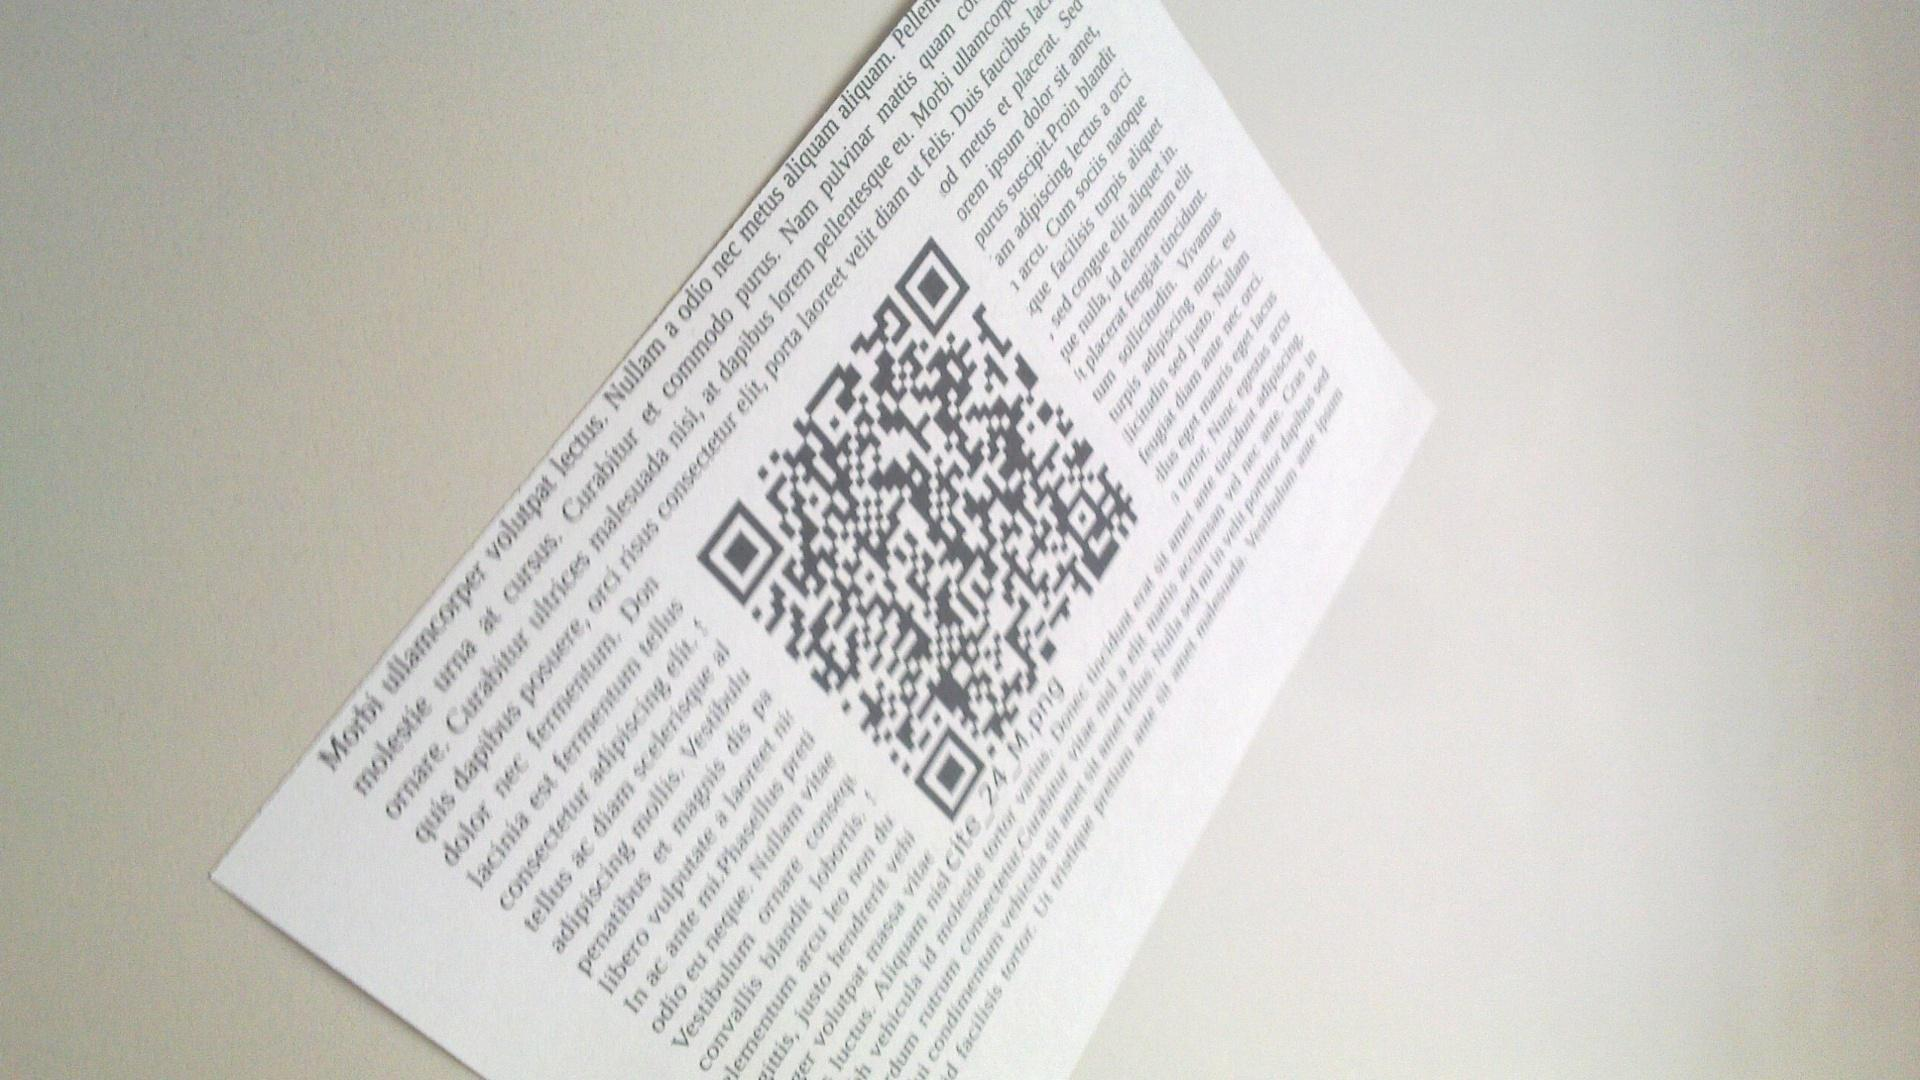Finder pattern: (694, 502, 782, 605), (889, 240, 975, 334), (909, 721, 986, 822)
